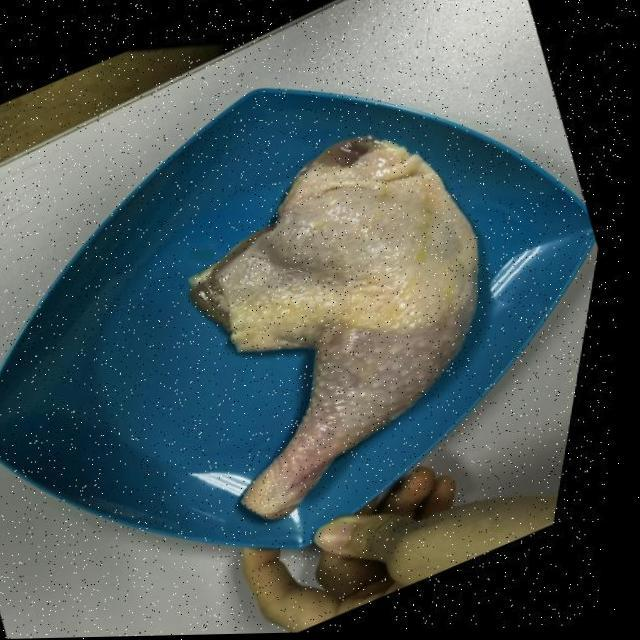quater: (217, 130, 478, 528)
